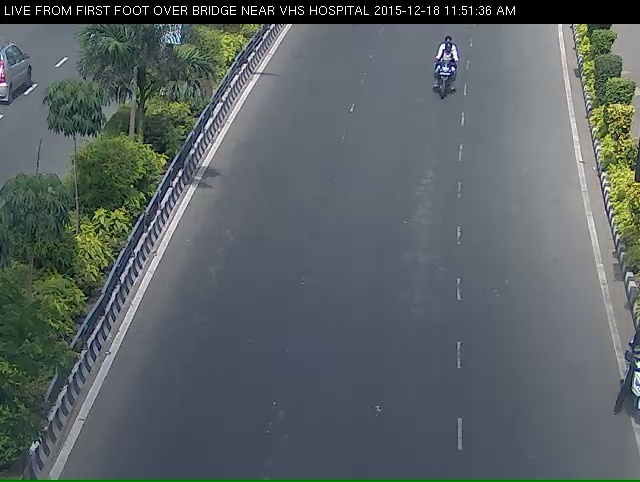Person: (424, 45, 468, 116)
